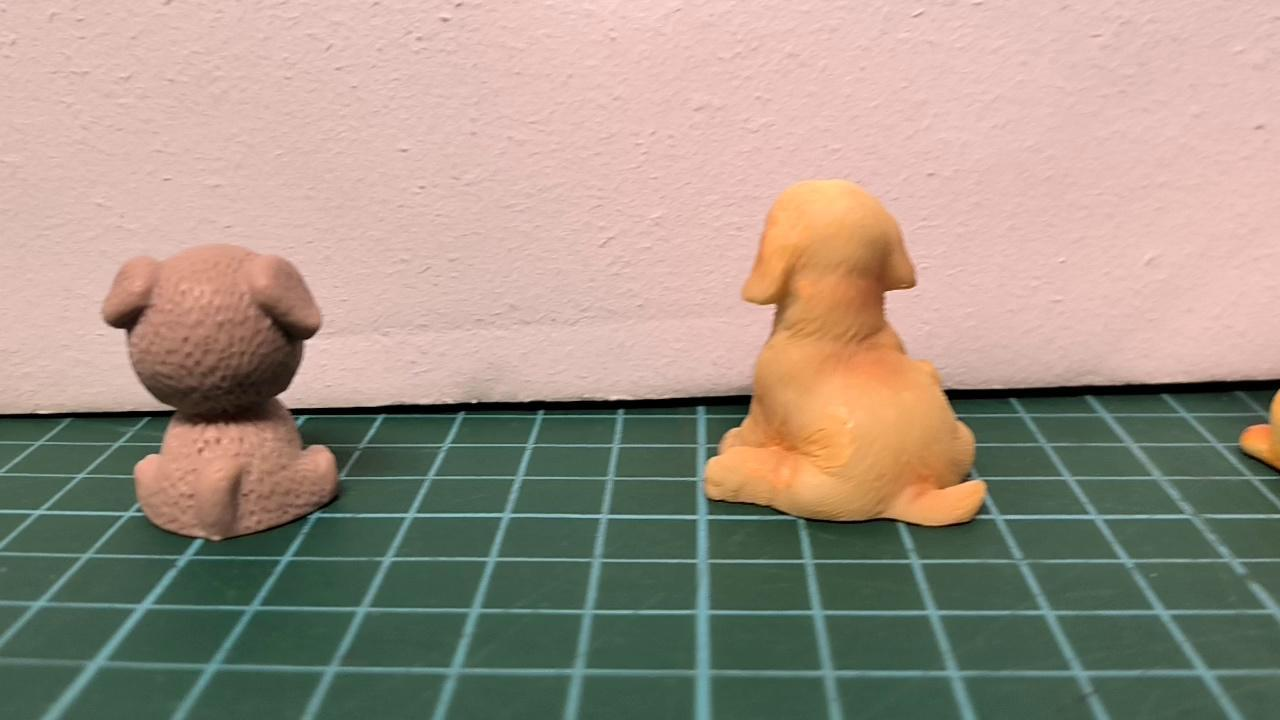pet: (702, 177, 989, 529), (100, 245, 340, 543)
